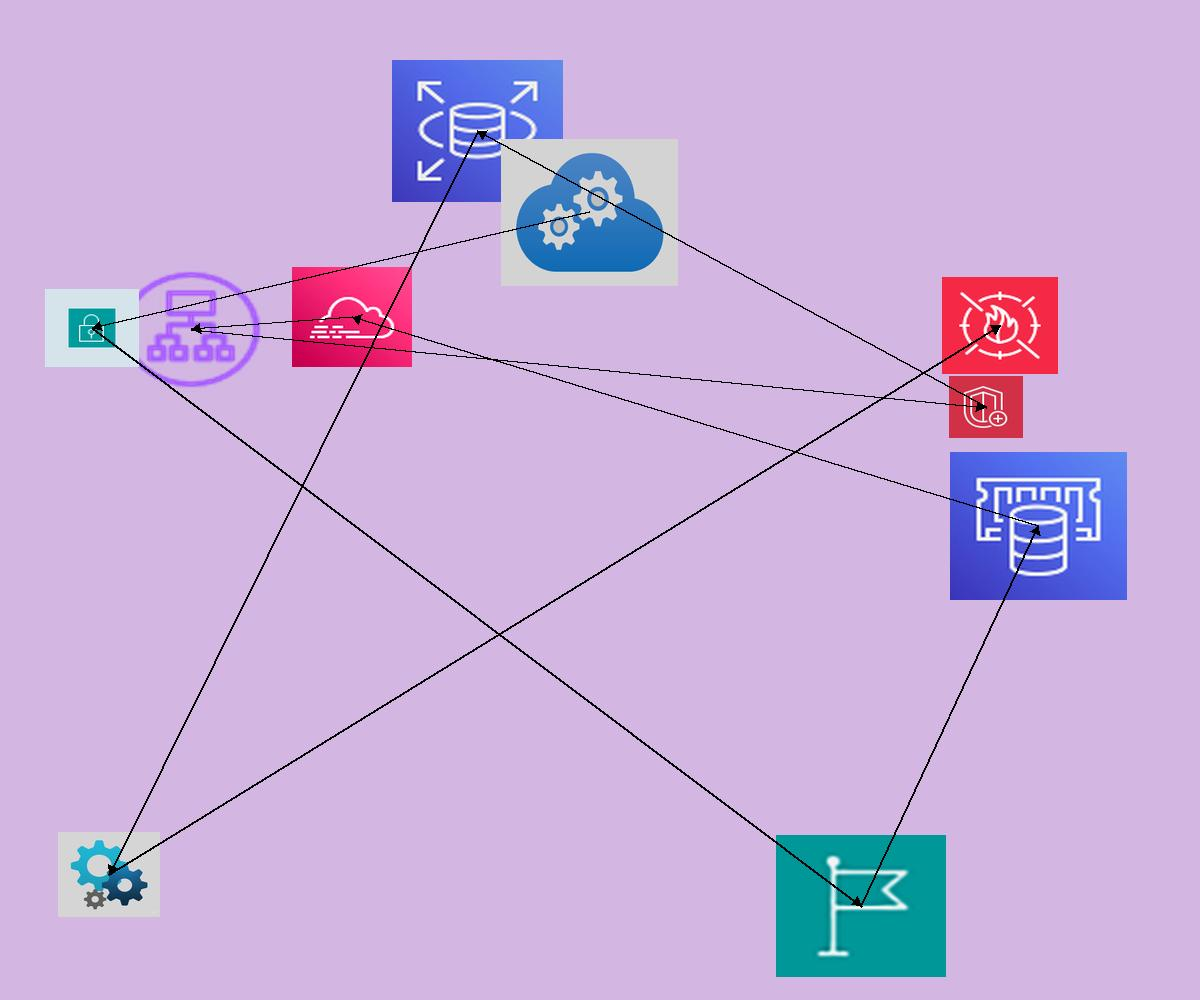AWS-CloudTrail: (292, 267, 412, 367)
AWS-ElastiCache: (950, 452, 1127, 600)
AWS-Private-subnet: (45, 289, 139, 367)
AWS-RDS: (392, 60, 563, 202)
AWS-Region: (776, 835, 946, 977)
AWS-Res_Elastic-Load-Balancing_Application-Load-Balancer: (116, 267, 266, 392)
AWS-Shield: (949, 376, 1023, 438)
AWS-WAF: (942, 277, 1058, 374)
Azure_api: (58, 832, 160, 917)
Azure_cloud_services: (501, 139, 678, 286)
